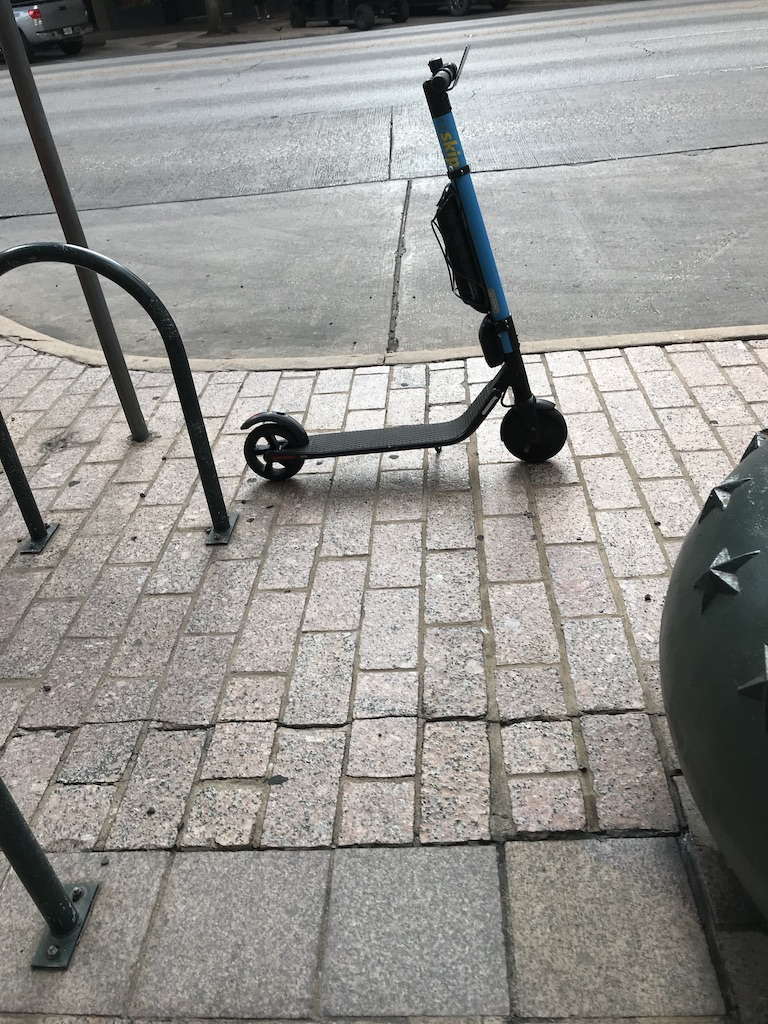scooter: (240, 58, 572, 483)
